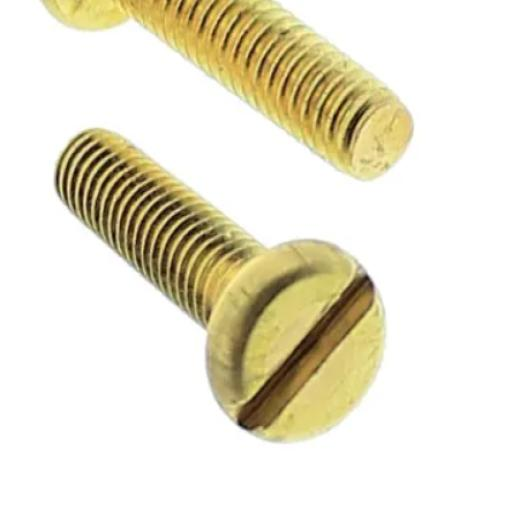Slotted: (203, 234, 388, 448)
